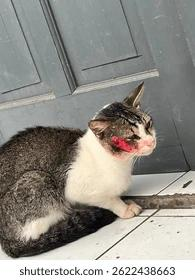cut: (107, 136, 148, 159)
